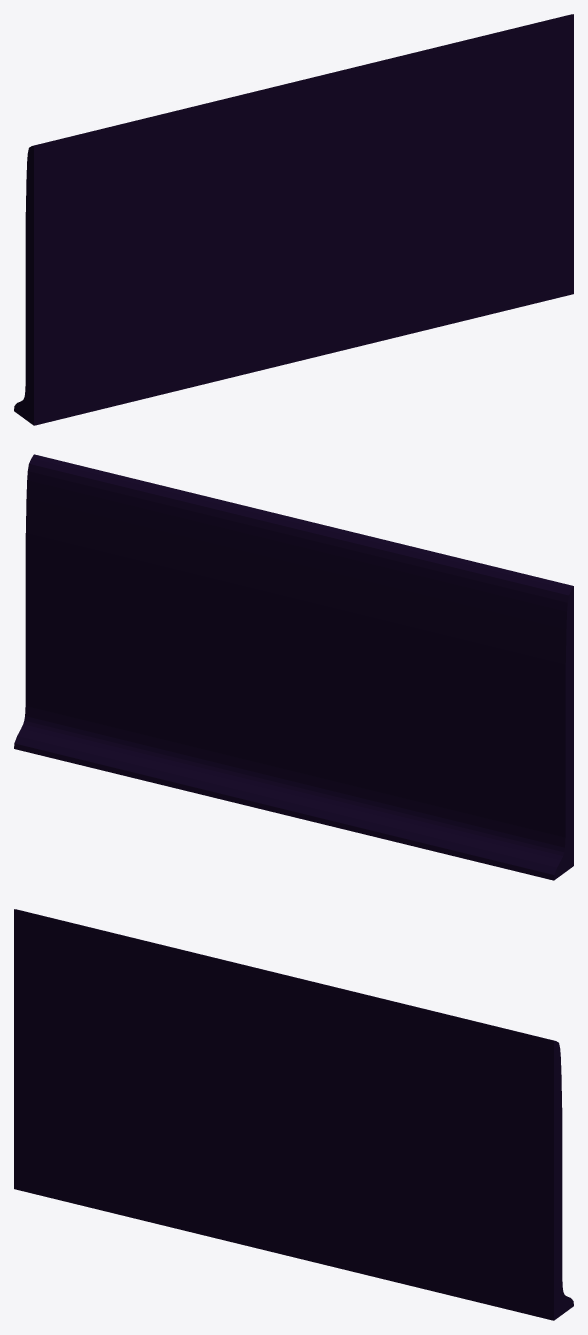
Rendered from FloorboardStraight.fbx.
The picture shows the model from 3 angles, top to bottom: view 1: azimuth 30°, elevation 25°; view 2: azimuth 150°, elevation 25°; view 3: azimuth 330°, elevation 25°; orthographic projection.
Parts seen in each view (by area): view 1: Cube; view 2: Cube; view 3: Cube.
Boxes of the visible parts, box(x1,y1,x2,y2) form: Cube: box(14, 14, 573, 425); Cube: box(14, 454, 573, 880); Cube: box(14, 909, 573, 1320).
Bounding box in the file's own units: 4828 × 2392 × 310.
